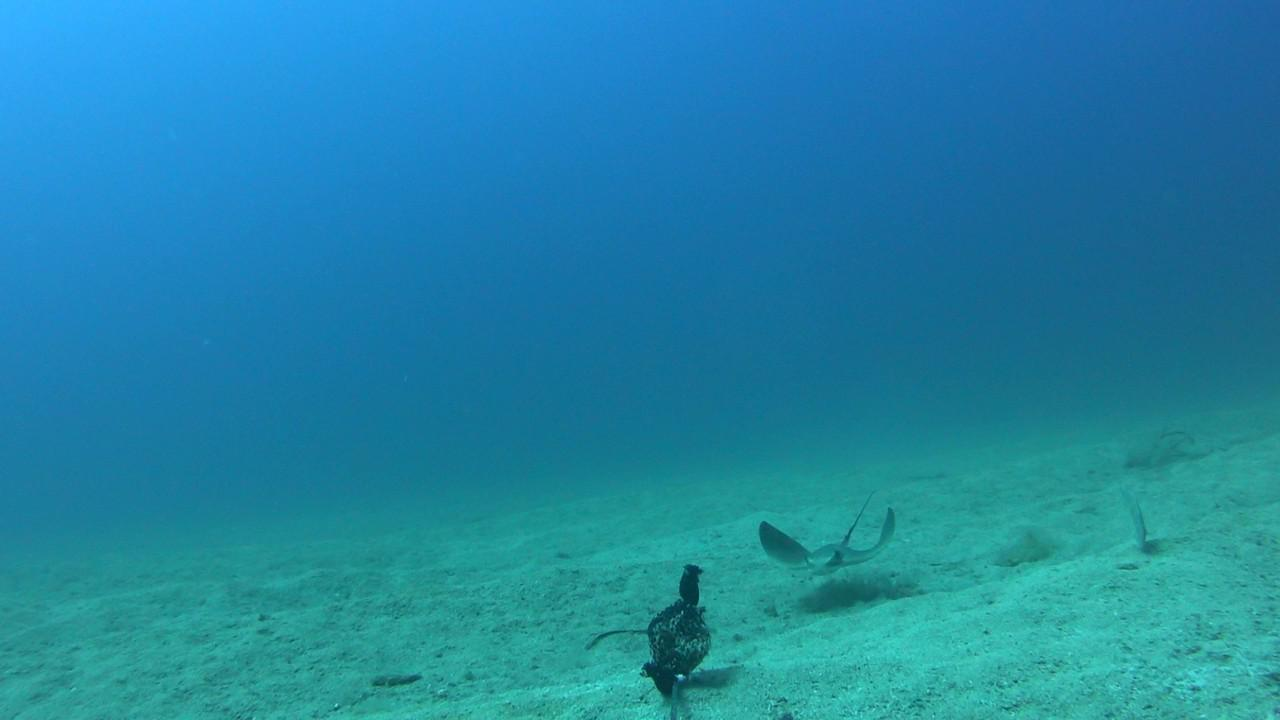myliobatis: (754, 486, 906, 577)
